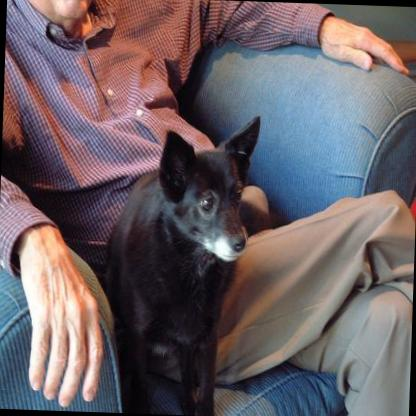schipperke: (100, 110, 260, 416)
